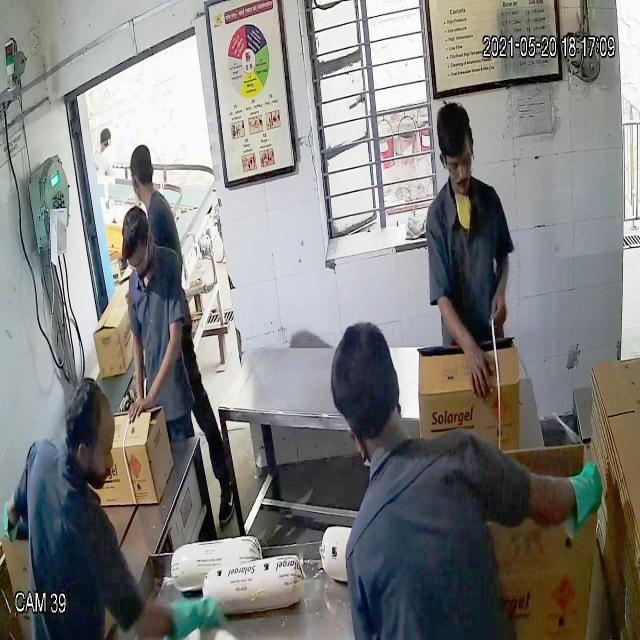glasses: (437, 147, 479, 183)
